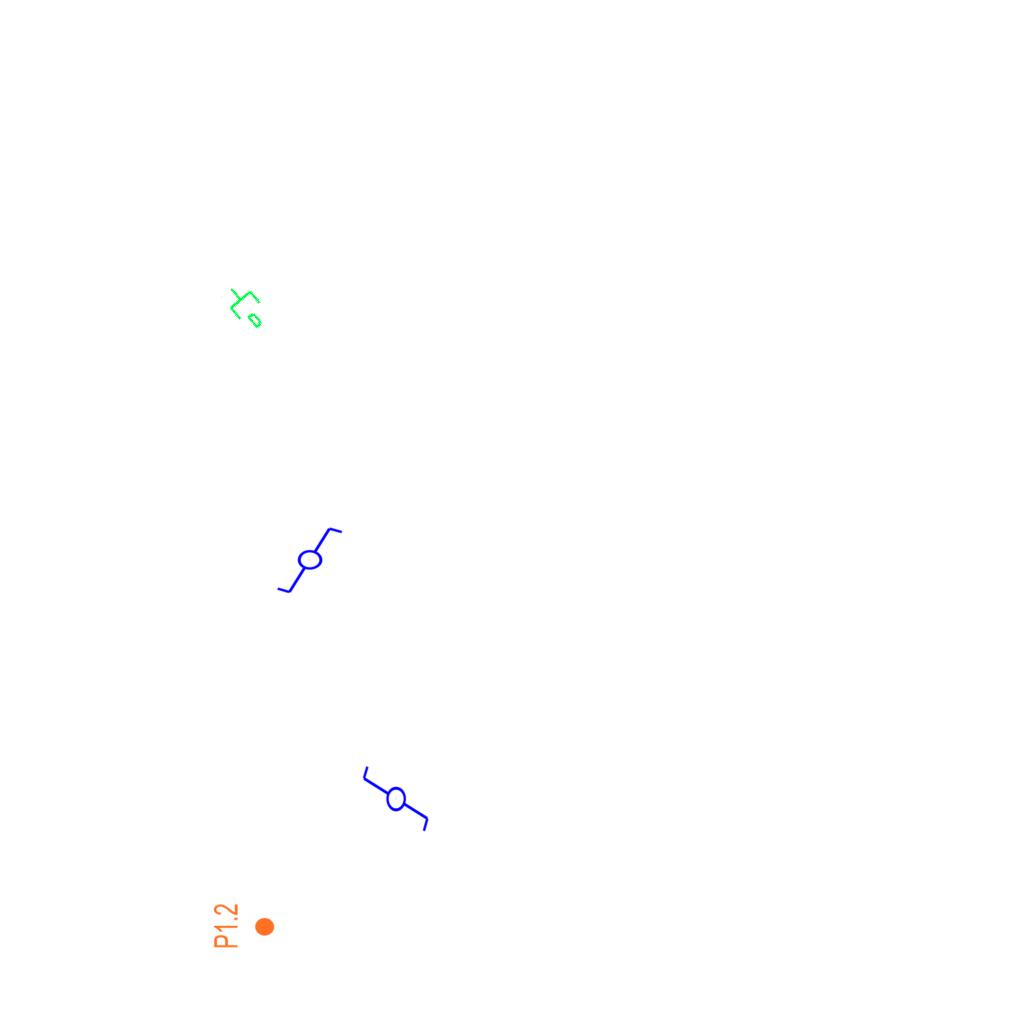Datenanschluss_einfach: (217, 275, 277, 337)
Downlight_LED_Einbauleuchten_Flur: (212, 903, 276, 949)
Wechselschalter: (359, 764, 431, 842), (275, 525, 353, 597)
